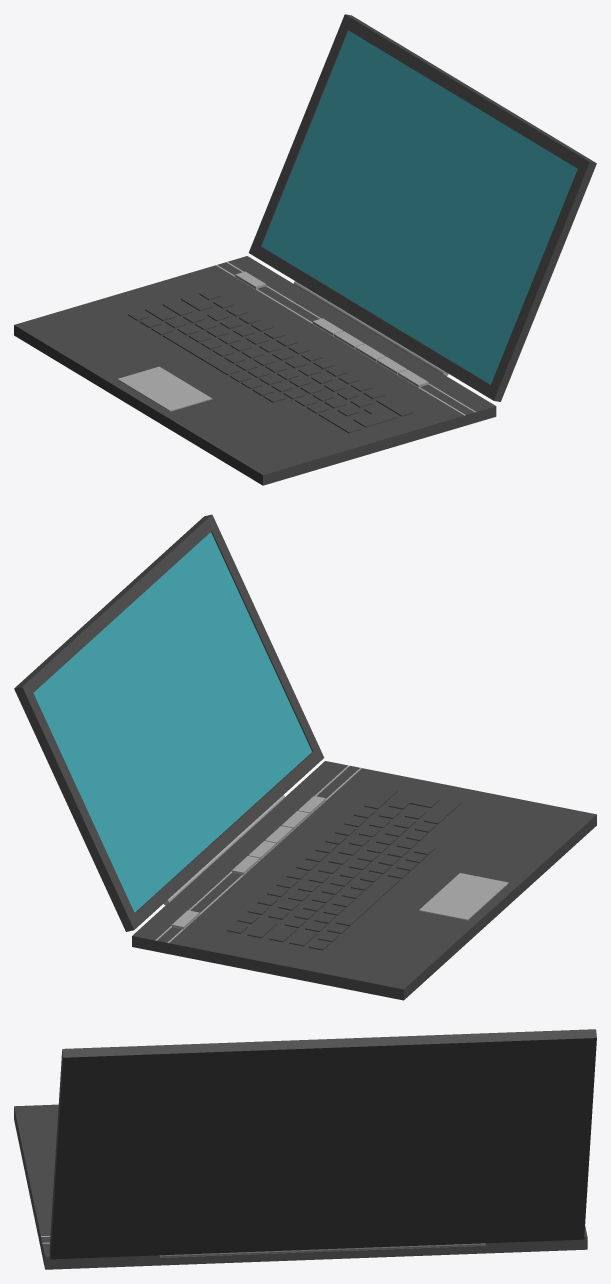
3 views of the same model, one above another, from view 1: azimuth 30°, elevation 25°; view 2: azimuth 150°, elevation 25°; view 3: azimuth 270°, elevation 25° (orthographic). The views are drawn at different scales.
Visible parts, largest first — view 1: Laptop:Box20311, Laptop:Box20329, Laptop:Box20312, Laptop:Box20322, Laptop:Cylinder011; view 2: Laptop:Box20311, Laptop:Box20329, Laptop:Box20312, Laptop:Box20322; view 3: Laptop:Box20311, Laptop:Box20329, Laptop:Cylinder011.
Boxes of the visible parts, x1,y1,x2,y2 form: Laptop:Box20311: [248, 14, 596, 401]; Laptop:Box20329: [14, 256, 496, 485]; Laptop:Box20312: [117, 366, 212, 411]; Laptop:Box20322: [162, 331, 239, 375]; Laptop:Cylinder011: [293, 281, 448, 375]; Laptop:Box20311: [14, 514, 324, 931]; Laptop:Box20329: [132, 761, 596, 1000]; Laptop:Box20312: [419, 873, 508, 920]; Laptop:Box20322: [335, 876, 400, 926]; Laptop:Box20311: [49, 1029, 596, 1259]; Laptop:Box20329: [14, 1104, 587, 1269]; Laptop:Cylinder011: [159, 1243, 485, 1257].
Bounding box in the file's own units: 952 × 530 × 992.
